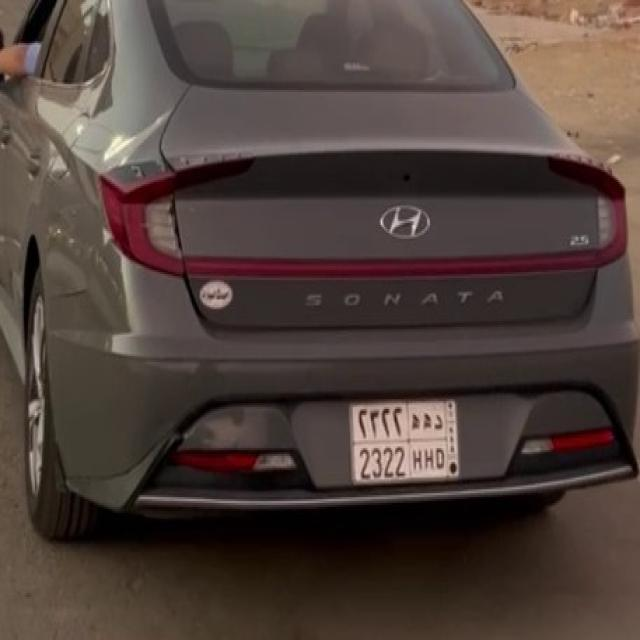Car-plate: (348, 399, 461, 482)
